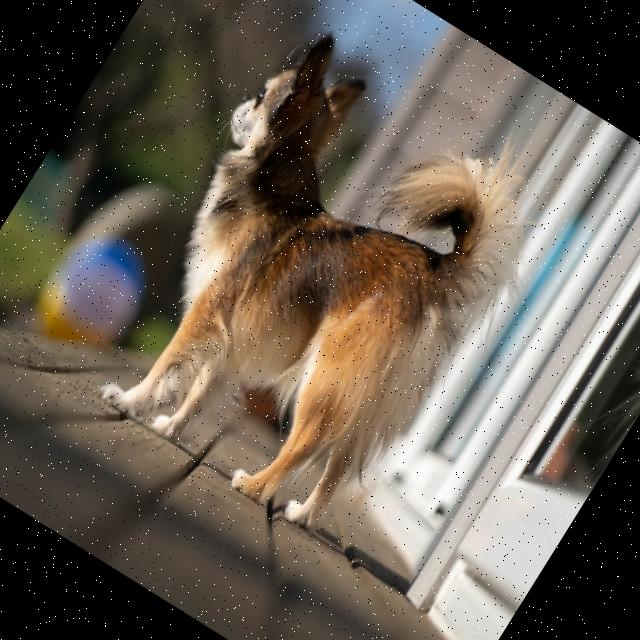Dog: (67, 6, 586, 558)
